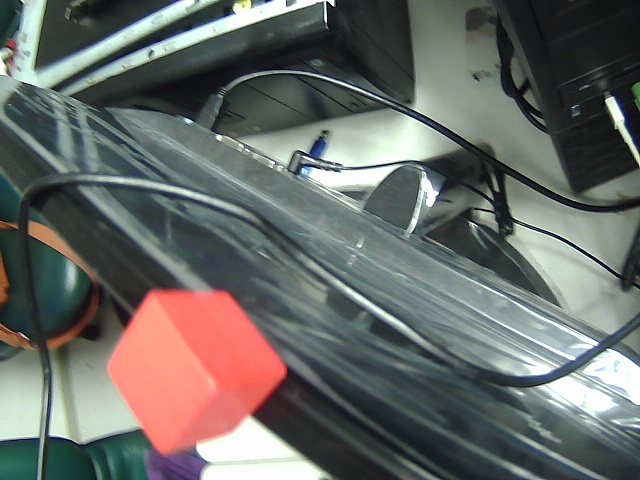redbox: (89, 282, 303, 461)
